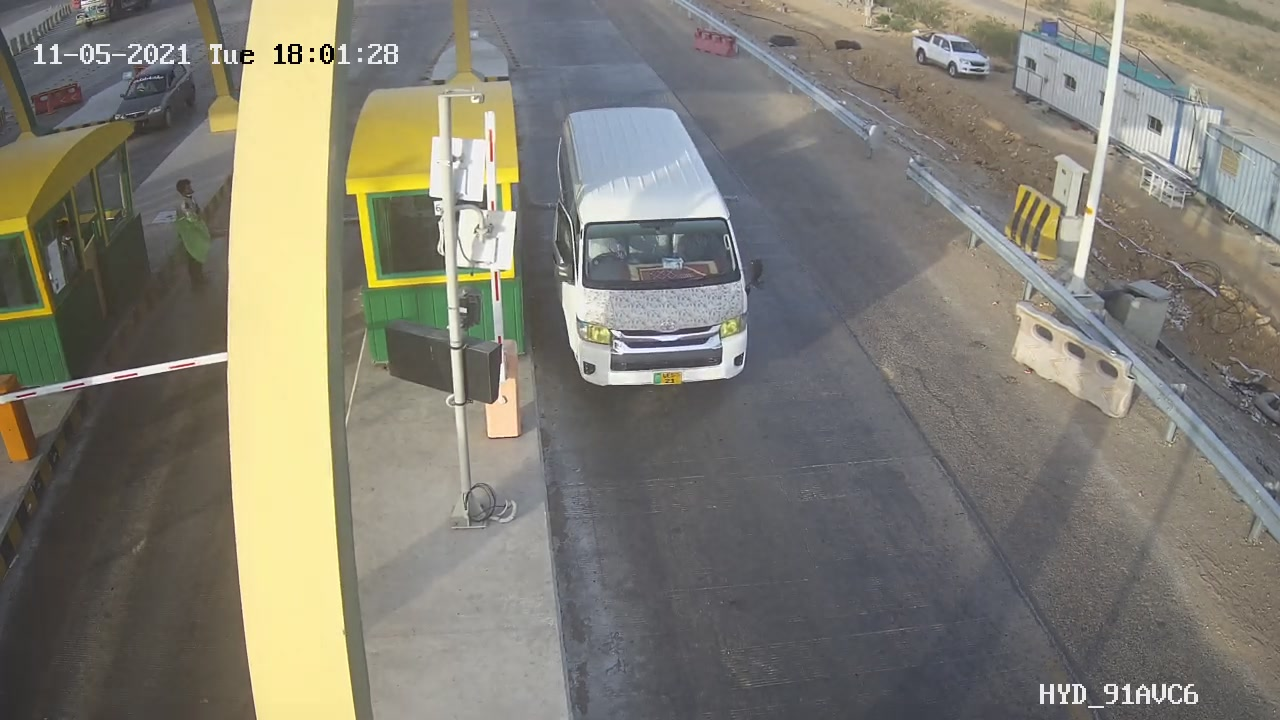F2: (543, 102, 779, 391)
